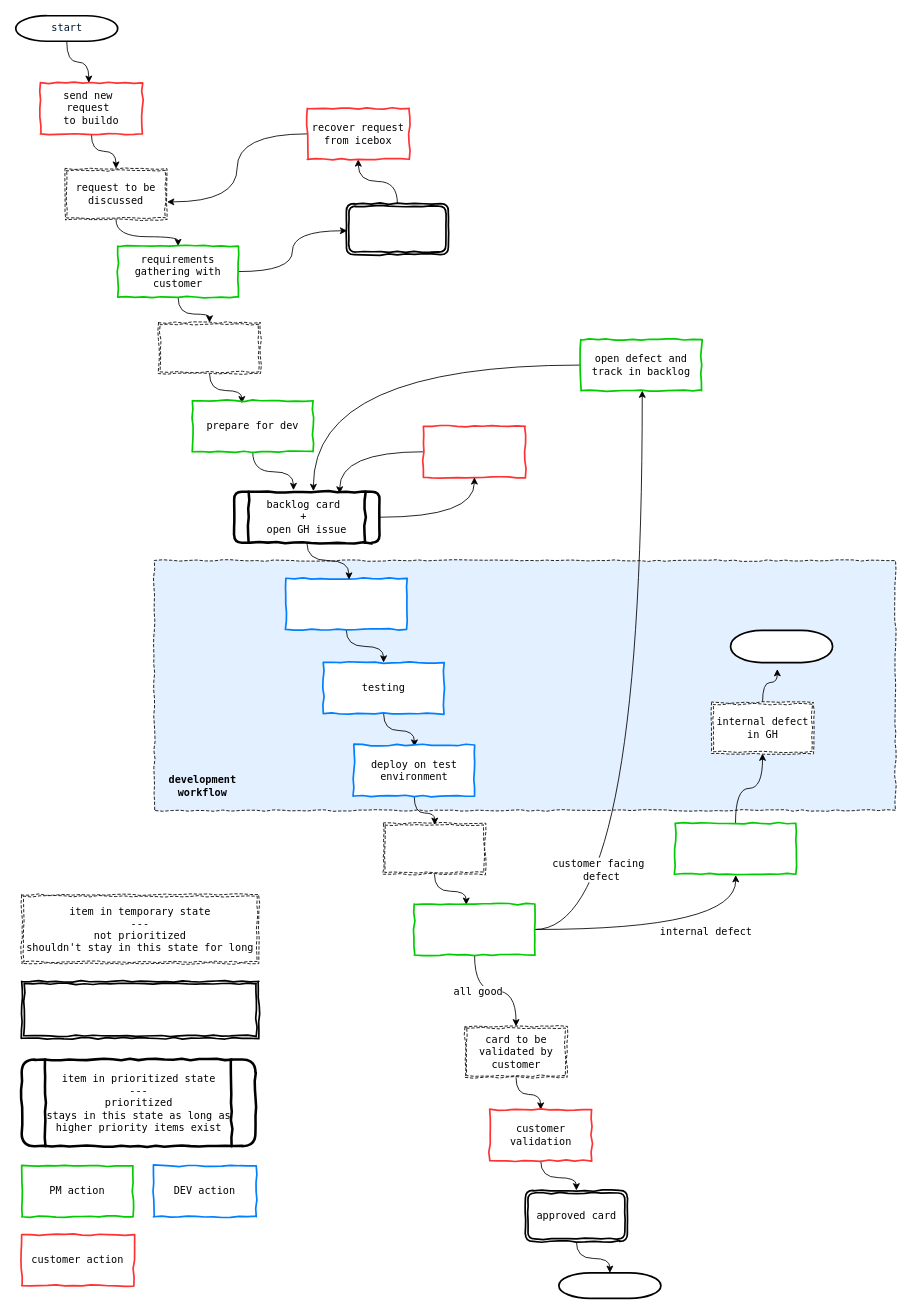
The diagram is 910 pixels wide and 1313 high, and some of its shapes have lost their labels. The shapes that lost their labels are listed below. From the top down, each one's centre as x and y in pixels, then its label:
At (397,228): "icebox item".
At (209,348): "actionable request".
At (474,451): "prioritize".
At (346,603): "implementation".
At (781,646): "outside of PRISMA flow".
At (434,848): "done card (and closed GH issue)".
At (735,848): "open defect only in GH".
At (474,929): "Q.A.".
At (139,1009): "item in stable state --- either closed forever, or in stand by for a long time".
At (609,1285): "end".
